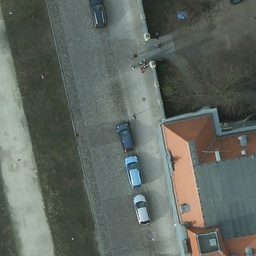car: (124, 153, 144, 186), (133, 193, 151, 228), (89, 0, 108, 28), (118, 122, 131, 148), (223, 0, 244, 6)
